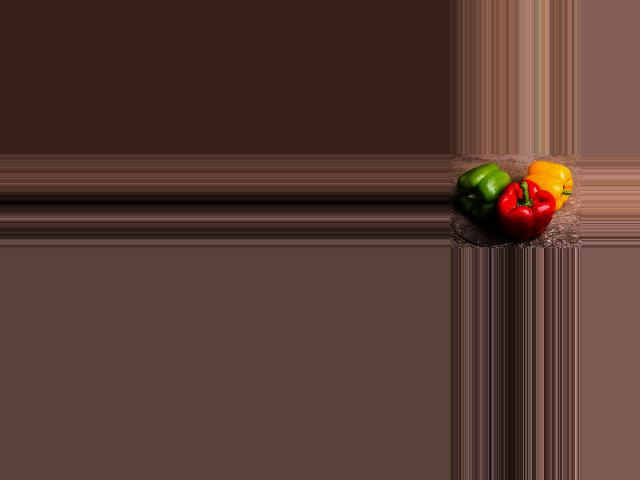bell_pepper: (527, 158, 572, 211)
